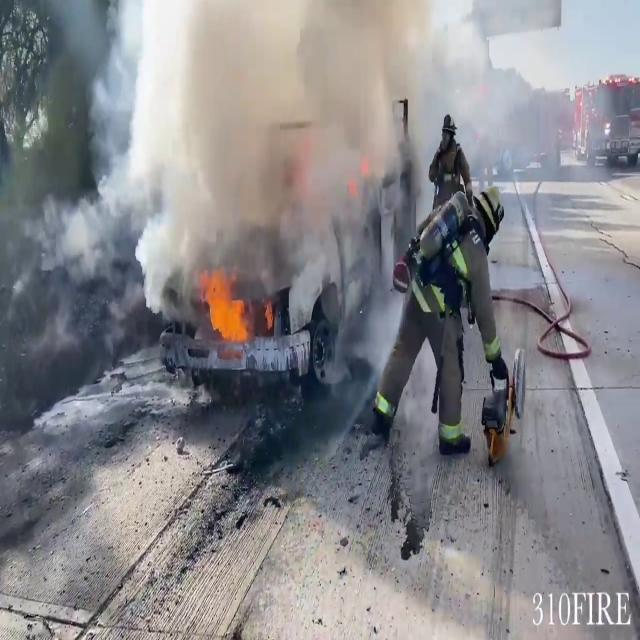Fire: (194, 258, 254, 352)
Smoke: (0, 0, 420, 328)
